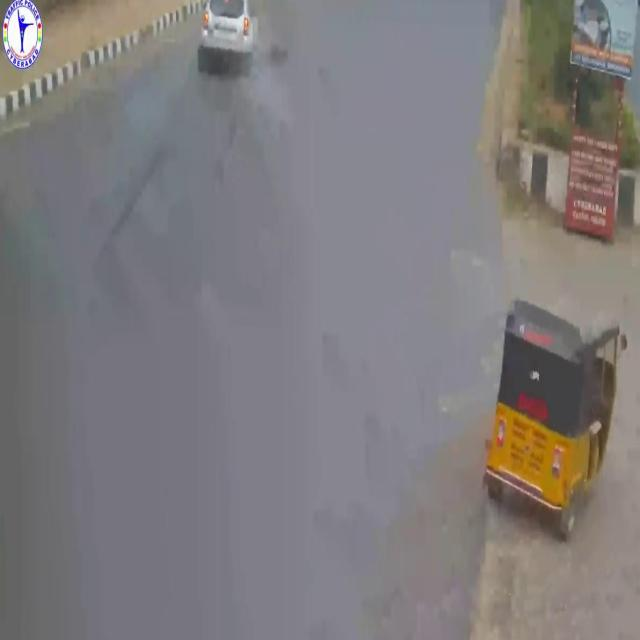accident: (189, 0, 291, 94)
